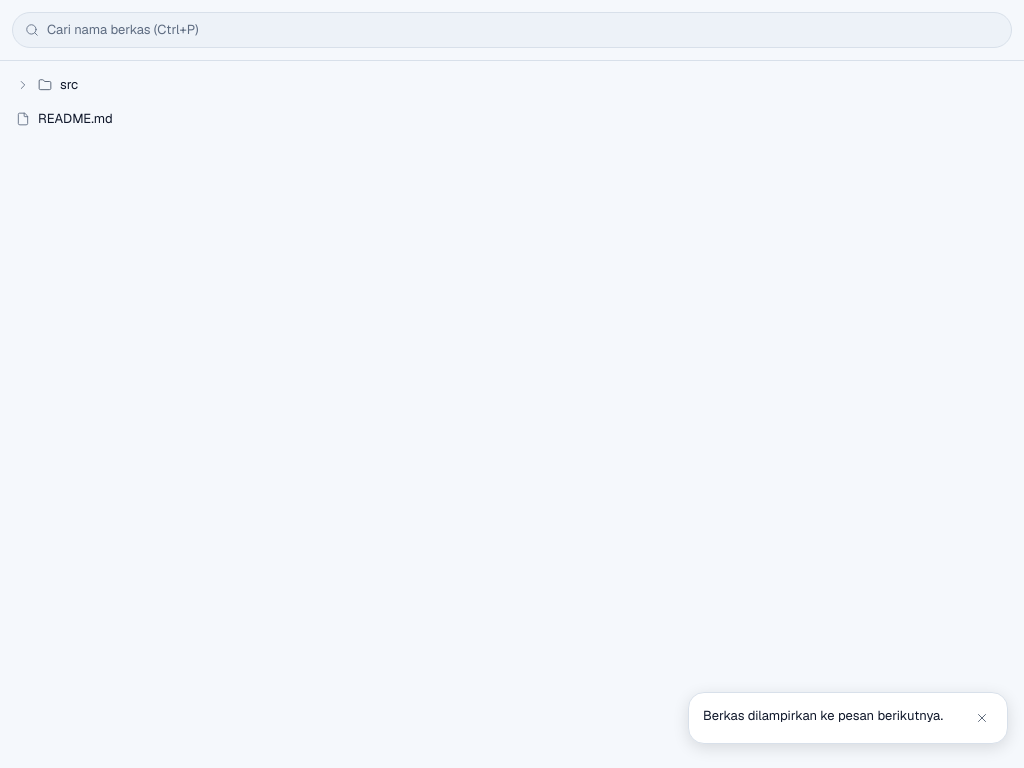
FilesPanel: aksi keadaan kosong › berkas kosong: tombol Tutup berkas kembali ke pohon
The image size is (1024, 768).
Click the button "README.md".
click(75, 118)  # box [8,103,1016,135]
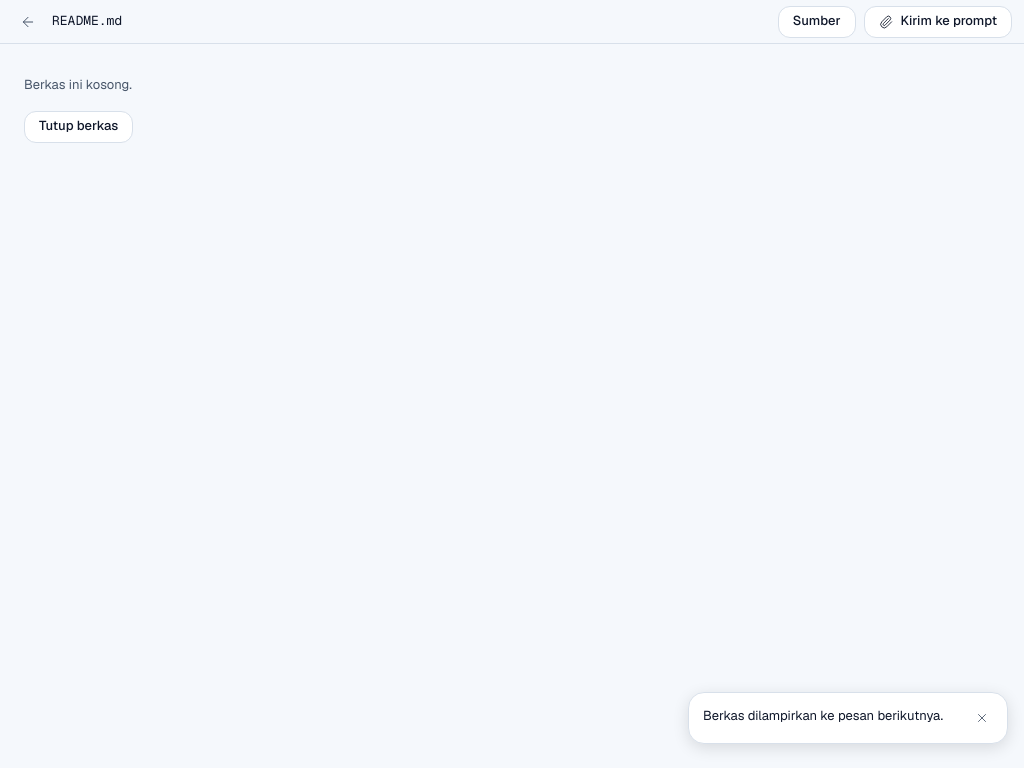
Expected: the text "Berkas ini kosong." is shown, [24,76,132,95]
Click the button "Tutup berkas".
click(79, 127)  # box [24,111,133,143]
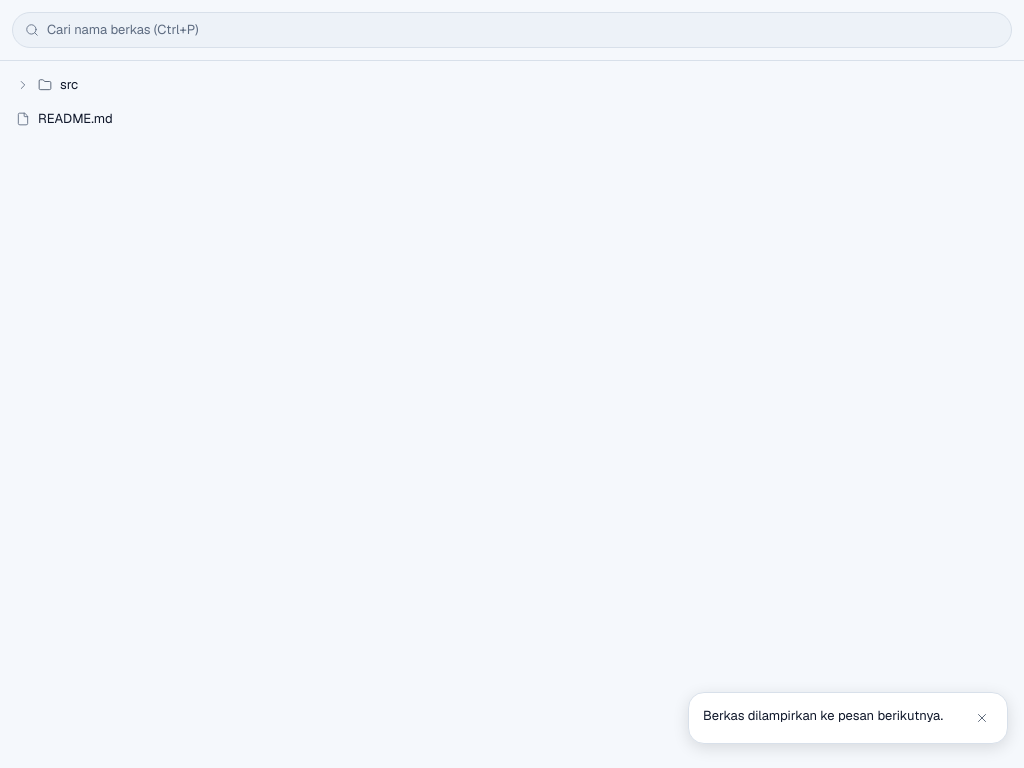
Expected: the list named "Berkas project" is shown, [0,61,1023,143]
